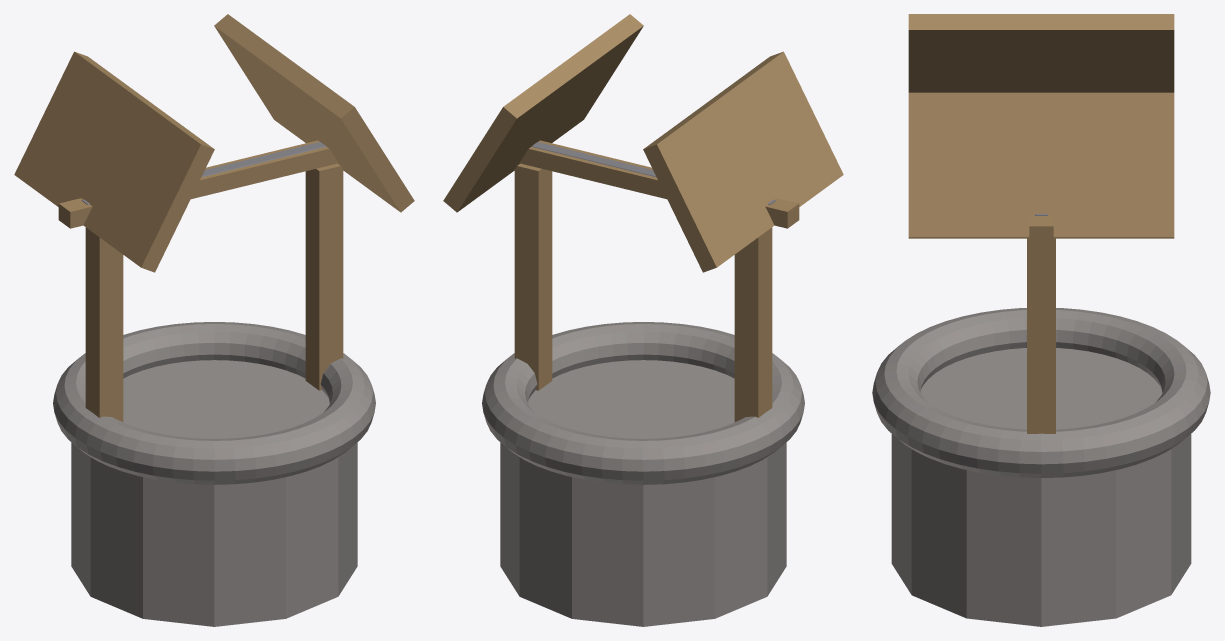
Rendered from well.glb.
The picture shows the model from 3 angles, left to right: view 1: azimuth 30°, elevation 25°; view 2: azimuth 150°, elevation 25°; view 3: azimuth 270°, elevation 25°; orthographic projection. The views are drawn at different scales.
Parts seen in each view (by area): view 1: Cylinder, Torus, Cube.003, Cube.004, Cube.001, Cube, Cube.002, Cylinder.001; view 2: Cylinder, Torus, Cube.003, Cube.004, Cube.001, Cube, Cube.002, Cylinder.001; view 3: Cylinder, Cube.004, Torus, Cube.003, Cube.001, Cube.002.
Boxes of the visible parts, bbox=[...] form: Cylinder: bbox=[71, 360, 357, 626]; Torus: bbox=[53, 322, 375, 484]; Cube.003: bbox=[14, 51, 214, 272]; Cube.004: bbox=[214, 14, 414, 212]; Cube.001: bbox=[305, 163, 343, 390]; Cube: bbox=[85, 227, 123, 421]; Cube.002: bbox=[58, 140, 338, 228]; Cylinder.001: bbox=[81, 142, 326, 204]; Cylinder: bbox=[500, 360, 786, 626]; Torus: bbox=[482, 322, 804, 484]; Cube.003: bbox=[643, 51, 843, 272]; Cube.004: bbox=[443, 14, 643, 212]; Cube.001: bbox=[514, 163, 552, 390]; Cube: bbox=[734, 227, 772, 421]; Cube.002: bbox=[519, 140, 799, 228]; Cylinder.001: bbox=[531, 142, 776, 204]; Cylinder: bbox=[891, 348, 1191, 626]; Cube.004: bbox=[908, 92, 1174, 238]; Torus: bbox=[872, 308, 1210, 477]; Cube.003: bbox=[908, 14, 1174, 92]; Cube.001: bbox=[1027, 238, 1055, 433]; Cube.002: bbox=[1029, 215, 1053, 243].
Bounding box in the file's own units: 1.5 × 2.33 × 1.4.
